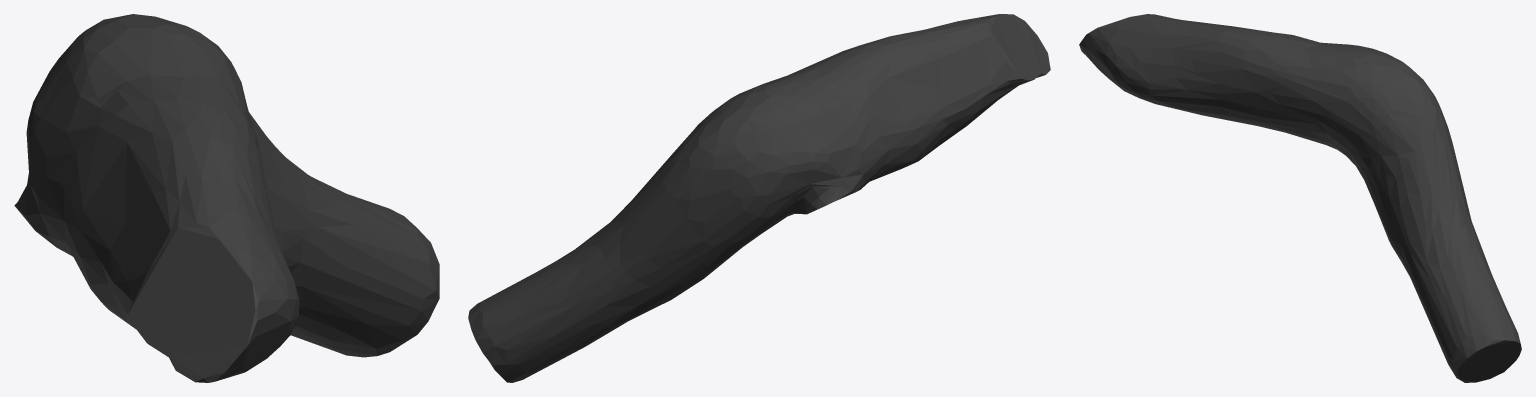
Rendered from Renal_vv_L.glb.
3 renders of one model, left to right at view 1: azimuth 30°, elevation 25°; view 2: azimuth 150°, elevation 25°; view 3: azimuth 270°, elevation 25°, orthographic. The views are drawn at different scales.
Parts seen in each view (by area): view 1: Renal_vv_L; view 2: Renal_vv_L; view 3: Renal_vv_L.
Boxes of the visible parts, left/top/right/bottom form: Renal_vv_L: left=14, top=14, right=439, bottom=382; Renal_vv_L: left=468, top=14, right=1050, bottom=382; Renal_vv_L: left=1079, top=14, right=1521, bottom=382.
Bounding box in the file's own units: 0.2518 × 0.1919 × 0.3057.
1 material, 1 textured.
